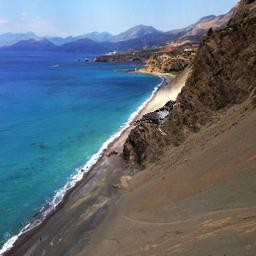Crow: (131, 99, 185, 135)
